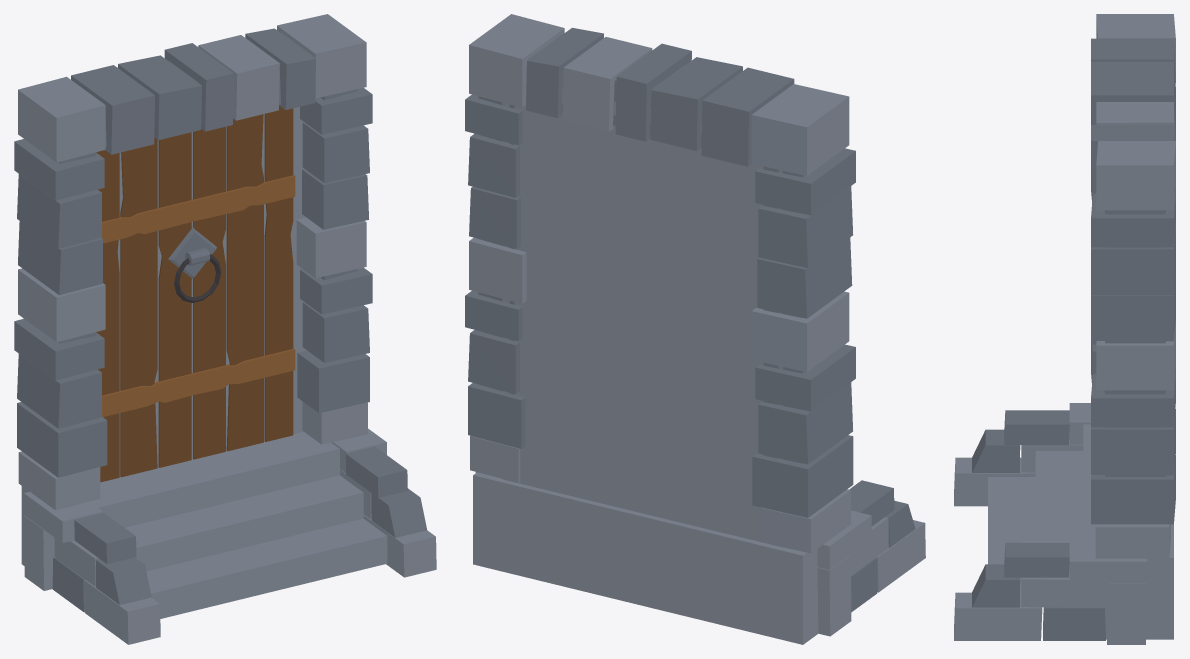
The model's file is Door_Straight.glb.
The picture shows the model from 3 angles, left to right: view 1: azimuth 30°, elevation 25°; view 2: azimuth 150°, elevation 25°; view 3: azimuth 270°, elevation 25°; orthographic projection. The views are drawn at different scales.
Parts seen in each view (by area): view 1: Door_Straight; view 2: Door_Straight; view 3: Door_Straight.
Part boxes in pixels (x1,y1,x2,y2): Door_Straight: (14, 14, 436, 644); Door_Straight: (465, 14, 925, 644); Door_Straight: (954, 14, 1175, 644).
Size of the model in its own units: 0.5013 by 0.7079 by 0.2963.
1 material, 1 textured.
